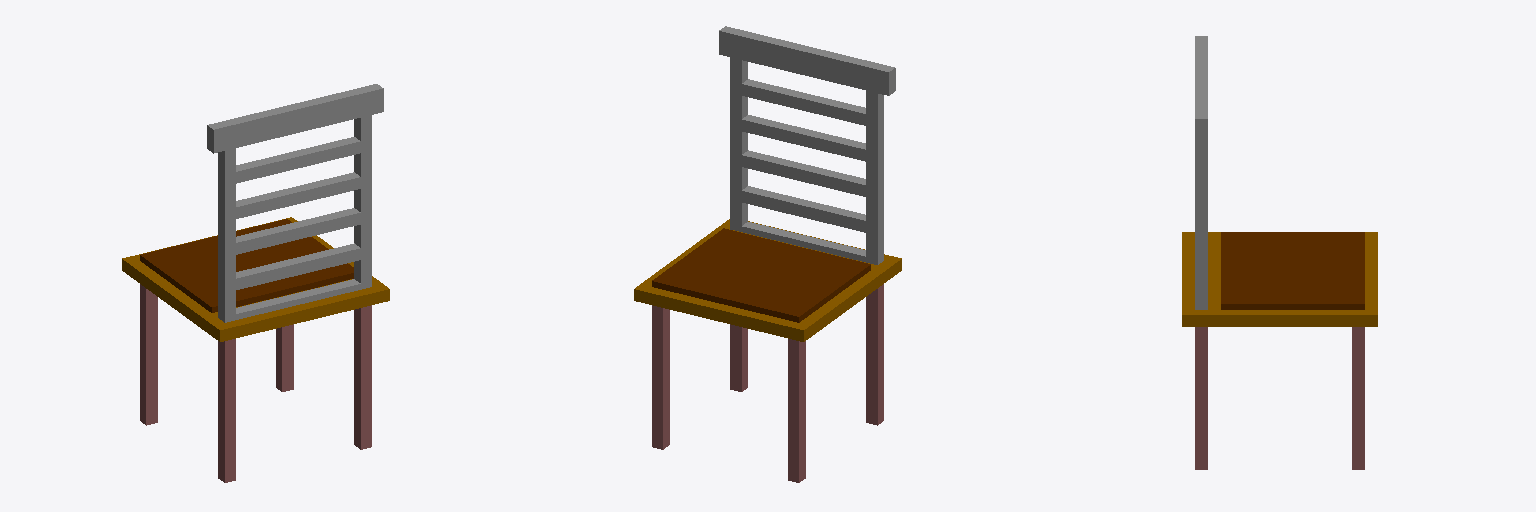
The picture shows the model from 3 angles: view 1: azimuth 30°, elevation 25°; view 2: azimuth 150°, elevation 25°; view 3: azimuth 270°, elevation 25°; orthographic projection.
Parts seen in each view (by area): view 1: chair2; view 2: chair2; view 3: chair2.
Boxes of the visible parts, x1=… form: chair2: x1=122, y1=84, x2=389, y2=482; chair2: x1=634, y1=26, x2=901, y2=482; chair2: x1=1182, y1=36, x2=1377, y2=469.
Bounding box in the file's own units: 3 × 6 × 3.
Materials: 1 (1 with a texture image).